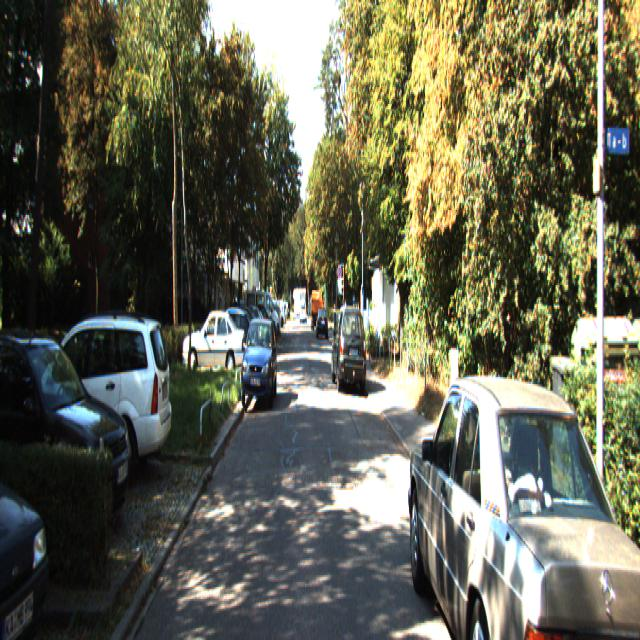Car: (406, 358, 640, 638), (2, 308, 175, 491), (0, 317, 134, 552), (183, 311, 246, 382), (241, 320, 278, 414), (331, 303, 366, 395)
